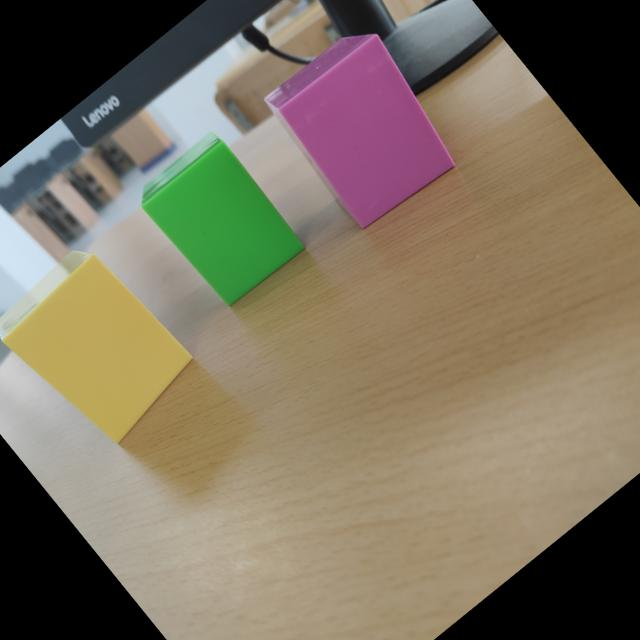green: (142, 133, 306, 308)
pink: (267, 33, 457, 230)
yellow: (0, 252, 190, 439)
